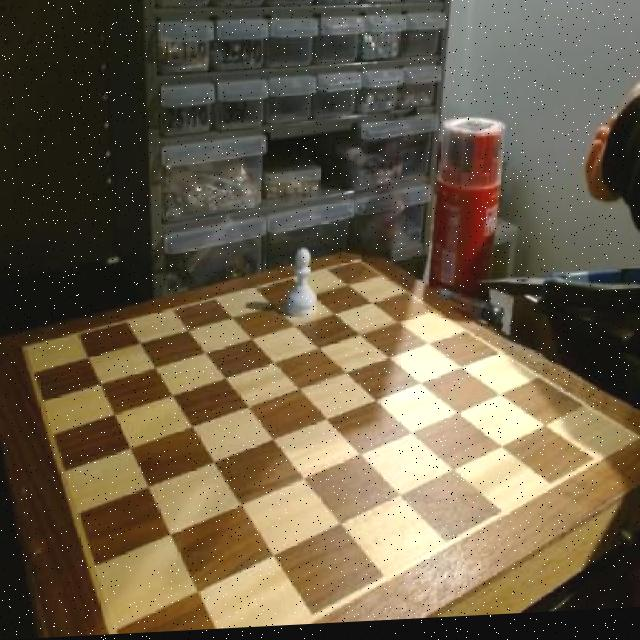white-knight: (282, 241, 321, 327)
